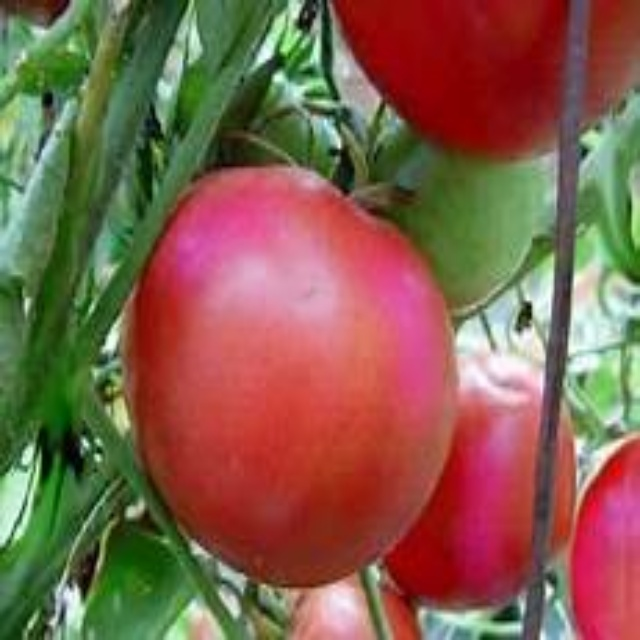tomato: (116, 173, 452, 580), (332, 5, 639, 163), (387, 345, 574, 599), (374, 115, 536, 312)
